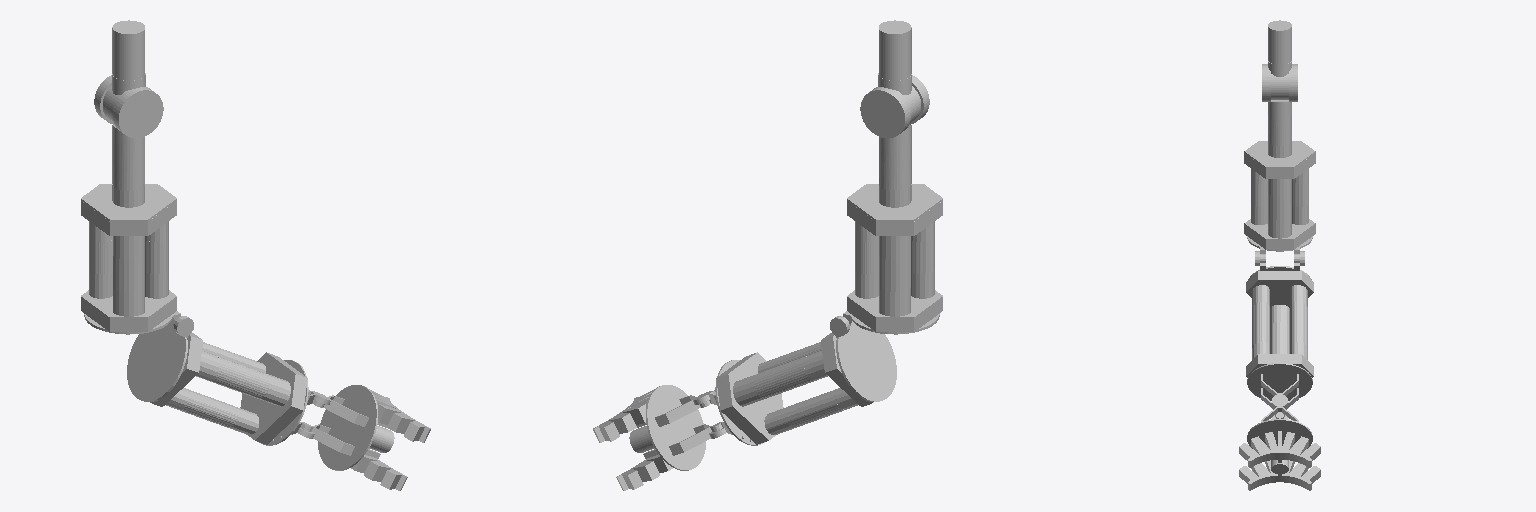
robot.urdf — softarm_prismatic_slack:
<?xml version="1.0" encoding="utf-8"?>
<robot
  name="softarm_prismatic_slack">
  <link name="world">
    <inertial>
      <mass value="0.00001" />
      <origin xyz="0.0 0.0 0.0" rpy="0 0 0" />
      <inertia ixx="0.00001" ixy="0" ixz="0" iyy="0.00001" iyz="0" izz="0.00001" />
    </inertial>
  </link>
  <joint
    name="world_fixed" type="fixed">
    <origin
      xyz="0 0 0"
      rpy="0 0 0" />
    <parent
      link="world" />
    <child
      link="Link1" />
  </joint>
  <link
    name="Link1">
    <inertial>
      <origin
        xyz="0 0 0"
        rpy="0 0 0" />
      <mass
        value="0.78" />
      <inertia
        ixx="0.00251310"
        ixy="0.00000000"
        ixz="0.00000000"
        iyy="0.00251310"
        iyz="0.00000000"
        izz="0.00036280" />
    </inertial>
    <visual>
      <origin
        xyz="0 0 -0.0947"
        rpy="0 3.141592 0" />
      <geometry>
        <mesh
          filename="meshes/Link1.stl" />
      </geometry>
      <material
        name="">
        <color
          rgba="0.8 0.8 0.8 1" />
      </material>
    </visual>
  </link>
  <link
    name="Link2">
    <inertial>
      <origin
        xyz="0 0 0"
        rpy="0 0 0" />
      <mass
        value="1.655" />
      <inertia
        ixx="0.00742458"
        ixy="0.00000000"
        ixz="0.00000000"
        iyy="0.00737463"
        iyz="0.00000000"
        izz="0.00149618" />
    </inertial>
    <visual>
      <origin
        xyz="0 0 0"
        rpy="0 3.141592 0" />
      <geometry>
        <mesh
          filename="meshes/Link2.stl" />
      </geometry>
      <material
        name="">
        <color
          rgba="0.8 0.8 0.8 1" />
      </material>
    </visual>
  </link>
  <joint
    name="Joint1"
    type="revolute">
    <origin
      xyz="0 0 -0.0947"
      rpy="0 3.141592 0" />
    <parent
      link="Link1" />
    <child
      link="Link2" />
    <axis
      xyz="0 0 1" />
    <limit
      lower="-2.4"
      upper="2.4"
      effort="100"
      velocity="10" />
  </joint>
  <link
    name="Link3">
    <inertial>
      <origin
        xyz="0 0 0"
        rpy="0 0 0" />
      <mass
        value="0.64" />
      <inertia
        ixx="0.00586821"
        ixy="0.00000000"
        ixz="0.00000000"
        iyy="0.00573359"
        iyz="0.00000000"
        izz="0.00061947" />
    </inertial>
    <visual>
      <origin
        xyz="0 0 0"
        rpy="0 3.141592 0" />
      <geometry>
        <mesh
          filename="meshes/Link3.stl" />
      </geometry>
      <material
        name="">
        <color
          rgba="0.8 0.8 0.8 1" />
      </material>
    </visual>
  </link>
  <joint
    name="Joint2"
    type="revolute">
    <origin
      xyz="0 0 0.0645"
      rpy="0 0 0" />
    <parent
      link="Link2" />
    <child
      link="Link3" />
    <axis
      xyz="0 1 0" />
    <limit
      lower="-2.4"
      upper="0.5"
      effort="100"
      velocity="10" />
  </joint>
  <link
    name="Link4">
    <inertial>
      <origin
        xyz="0 0 0"
        rpy="0 0 0" />
      <mass
        value="0.575" />
      <inertia
        ixx="0.00650106"
        ixy="0.00000000"
        ixz="0.00000000"
        iyy="0.00650106"
        iyz="0.00000000"
        izz="0.00183171" />
    </inertial>
    <visual>
      <origin
        xyz="0 0 0"
        rpy="0 3.141592 0" />
      <geometry>
        <mesh
          filename="meshes/Link4(p).stl" />
      </geometry>
      <material
        name="">
        <color
          rgba="0.8 0.8 0.8 1" />
      </material>
    </visual>
  </link>
  <joint
    name="Joint3"
    type="revolute">
    <origin
      xyz="0 0 0.1603"
      rpy="0 0 0" />
    <parent
      link="Link3" />
    <child
      link="Link4" />
    <axis
      xyz="0 0 1" />
    <limit
      lower="-0.5"
      upper="0.5"
      effort="100"
      velocity="10" />
  </joint>
  <link
    name="Link5">
    <inertial>
      <origin
        xyz="0 0 0"
        rpy="0 0 0" />
      <mass
        value="0.5" />
      <inertia
        ixx="0.04017529"
        ixy="0.00000000"
        ixz="-0.00019354"
        iyy="0.04020927"
        iyz="0.00000000"
        izz="0.00172051" />
    </inertial>
    <visual>
      <origin
        xyz="0 0 -0.11508"
        rpy="0 3.141592 0" />
      <geometry>
        <mesh
          filename="meshes/Link5(p).stl" />
      </geometry>
      <material
        name="">
        <color
          rgba="0.8 0.8 0.8 1" />
      </material>
    </visual>
  </link>
  <joint
    name="Joint4"
    type="prismatic">
    <origin
      xyz="0 0 0.068"
      rpy="0 0 0" />
    <parent
      link="Link4" />
    <child
      link="Link5" />
    <axis
      xyz="0 0 1" />
    <limit
      lower="0.101"
      upper="0.230"
      effort="100"
      velocity="10" />
  </joint>
  <link
    name="Link6">
    <inertial>
      <origin
        xyz="0 0 0"
        rpy="0 0 0" />
      <mass
        value="0.57" />
      <inertia
        ixx="0.00865569"
        ixy="0.00000000"
        ixz="-0.00004011"
        iyy="0.00871183"
        iyz="0.00000000"
        izz="0.00191606" />
    </inertial>
    <visual>
      <origin
        xyz="0 0 0"
        rpy="0 3.141592 0" />
      <geometry>
        <mesh
          filename="meshes/Link6(p).stl" />
      </geometry>
      <material
        name="">
        <color
          rgba="0.8 0.8 0.8 1" />
      </material>
    </visual>
  </link>
  <joint
    name="Joint5"
    type="revolute">
    <origin
      xyz="-0.0853 0 0.0535"
      rpy="0 0 0" />
    <parent
      link="Link5" />
    <child
      link="Link6" />
    <axis
      xyz="0 1 0" />
    <limit
      lower="-1.5708"
      upper="-0.523599"
      effort="100"
      velocity="10" />
  </joint>
  
  <link name="Link6_R1">
    <inertial>
      <mass value="0.00001" />
      <origin xyz="0.0 0.0 0.0" rpy="0 0 0" />
      <inertia ixx="0.00001" ixy="0" ixz="0" iyy="0.00001" iyz="0" izz="0.00001" />
    </inertial>
  </link>
  <joint
    name="Joint6_R1"
    type="revolute">
    <origin
      xyz="0.07935 0 0.0565"
      rpy="0 0 0" />
    <parent
      link="Link6" />
    <child
      link="Link6_R1" />
    <axis
      xyz="1 0 0" />
    <limit
      lower="-0.04"
      upper="0.04"
      effort="100"
      velocity="10" />
  </joint>
  
  <link name="Link6_R2">
    <inertial>
      <mass value="0.00001" />
      <origin xyz="0.0 0.0 0.0" rpy="0 0 0" />
      <inertia ixx="0.00001" ixy="0" ixz="0" iyy="0.00001" iyz="0" izz="0.00001" />
    </inertial>
  </link>
  <joint
    name="Joint6_R2"
    type="revolute">
    <origin
      xyz="0 0 0"
      rpy="0 0 0" />
    <parent
      link="Link6_R1" />
    <child
      link="Link6_R2" />
    <axis
      xyz="0 1 0" />
    <limit
      lower="-0.04"
      upper="0.04"
      effort="100"
      velocity="10" />
  </joint>
  
  <link name="Link7_R1">
    <inertial>
      <mass value="0.00001" />
      <origin xyz="0.0 0.0 0.0" rpy="0 0 0" />
      <inertia ixx="0.00001" ixy="0" ixz="0" iyy="0.00001" iyz="0" izz="0.00001" />
    </inertial>
  </link>
    
  <joint
    name="Joint6"
    type="prismatic">
    <origin
      xyz="0 0 0"
      rpy="0 0 0" />
    <parent
      link="Link6_R2" />
    <child
      link="Link7_R1" />
    <axis
      xyz="0 0 1" />
    <limit

      lower="0.105"
      upper="0.350"
      effort="100"
      velocity="10" />
  </joint>
  
  <link name="Link7_R2">
    <inertial>
      <mass value="0.00001" />
      <origin xyz="0.0 0.0 0.0" rpy="0 0 0" />
      <inertia ixx="0.00001" ixy="0" ixz="0" iyy="0.00001" iyz="0" izz="0.00001" />
    </inertial>
  </link>
  <joint
    name="Joint7_R1"
    type="revolute">
    <origin
      xyz="0 0 0.0"
      rpy="0 0 0" />
    <parent
      link="Link7_R1" />
    <child
      link="Link7_R2" />
    <axis
      xyz="1 0 0" />
    <limit
      lower="-0.04"
      upper="0.04"
      effort="100"
      velocity="10" />
  </joint>
  
  <link
    name="Link7">
    <inertial>
      <origin
        xyz="0 0 0"
        rpy="0 0 0" />
      <mass
        value="0.7" />
      <inertia
        ixx="0.09844934"
        ixy="0.00000000"
        ixz="-0.00046452"
        iyy="0.09845530"

        iyz="0.00000000"
        izz="0.00222236" />
    </inertial>
    <visual>
      <origin
        xyz="0.00595 0 -0.175"
        rpy="0 3.141592 0" />
      <geometry>
        <mesh
          filename="meshes/Link7(p).stl" />
      </geometry>
      <material
        name="">
        <color
          rgba="0.8 0.8 0.8 1" />
      </material>
    </visual>
  </link>
  <joint
    name="Joint7_R2"
    type="revolute">
    <origin
      xyz="0 0 0"
      rpy="0 0 0" />
    <parent
      link="Link7_R2" />
    <child
      link="Link7" />
    <axis
      xyz="0 1 0" />
    <limit
      lower="-0.04"
      upper="0.04"
      effort="100"
      velocity="10" />
  </joint>
  
  
  <link
    name="Link8">
    <inertial>
      <origin
        xyz="0 0 0"
        rpy="0 0 0" />
      <mass
        value="0.575" />
      <inertia
        ixx="0.01361800"
        ixy="0.00000000"
        ixz="0.00000000"
        iyy="0.01353842"
        iyz="0.00000000"
        izz="0.00238257" />
    </inertial>
    <visual>
      <origin
        xyz="0 0 0"
        rpy="0 3.141592 0" />
      <geometry>
        <mesh
          filename="meshes/Link8.stl" />
      </geometry>
      <material
        name="">
        <color
          rgba="0.8 0.8 0.8 1" />
      </material>
    </visual>
  </link>
  <joint
    name="Joint7"
    type="revolute">
    <origin
      xyz="0.00595 0 0.1188"
      rpy="0 0 0" />
    <parent
      link="Link7" />
    <child
      link="Link8" />
    <axis
      xyz="1 0 0" />
    <limit
      lower="-1.0472"
      upper="1.0472"
      effort="100"
      velocity="10" />
  </joint>

  <link name="tcp">
    <inertial>
      <mass value="0.00001" />
      <origin xyz="0.0 0.0 0.0" rpy="0 0 0" />
      <inertia ixx="0.00001" ixy="0" ixz="0" iyy="0.00001" iyz="0" izz="0.00001" />
    </inertial>
  </link>
  
  <joint name="tcp" type="fixed">
    <parent link="Link8"/>
    <child link="tcp"/>
    <origin xyz="0 0 0.1858" rpy="0 -1.5709 0"/>
  </joint>

</robot>

--- Render facts (derived) ---
3 views of the same robot in one strip: view 1: azimuth 30°, elevation 25°; view 2: azimuth 150°, elevation 25°; view 3: azimuth 270°, elevation 25° (orthographic).
Model softarm_prismatic_slack with 14 links and 13 joints (9 revolute, 2 prismatic, 2 fixed), rooted at world, posed all joints at 0 but 3 set to mid-range because 0 is outside their limits (Joint4 = 0.1655, Joint5 = -1.05, Joint6 = 0.2275).
Visible links, largest first — view 1: Link6, Link8, Link4, Link7, Link5, Link3, Link1, Link2; view 2: Link6, Link8, Link4, Link7, Link5, Link3, Link1, Link2; view 3: Link8, Link7, Link6, Link4, Link5, Link3, Link1, Link2.
Link boxes in pixels (x1,y1,x2,y2): Link6: (127, 316, 269, 427); Link8: (297, 385, 430, 490); Link4: (81, 184, 176, 291); Link7: (181, 342, 324, 445); Link5: (81, 238, 180, 334); Link3: (94, 75, 163, 190); Link1: (112, 20, 144, 80); Link2: (103, 73, 145, 122); Link6: (754, 316, 896, 427); Link8: (593, 385, 726, 490); Link4: (847, 184, 942, 291); Link7: (699, 342, 843, 445); Link5: (843, 240, 942, 334); Link3: (860, 75, 929, 190); Link1: (879, 20, 911, 80); Link2: (878, 73, 920, 122); Link8: (1239, 394, 1320, 490); Link7: (1246, 302, 1313, 418); Link6: (1246, 251, 1313, 353); Link4: (1244, 141, 1315, 219); Link5: (1244, 182, 1315, 262); Link3: (1262, 64, 1297, 145); Link1: (1268, 20, 1291, 64); Link2: (1268, 61, 1291, 99).
Bounding box of the posed robot: 0.684 × 0.2057 × 1.04 m (x, y, z).
Meshes: 8 distinct files referenced, 8 mesh visuals loaded (8 binary STL).